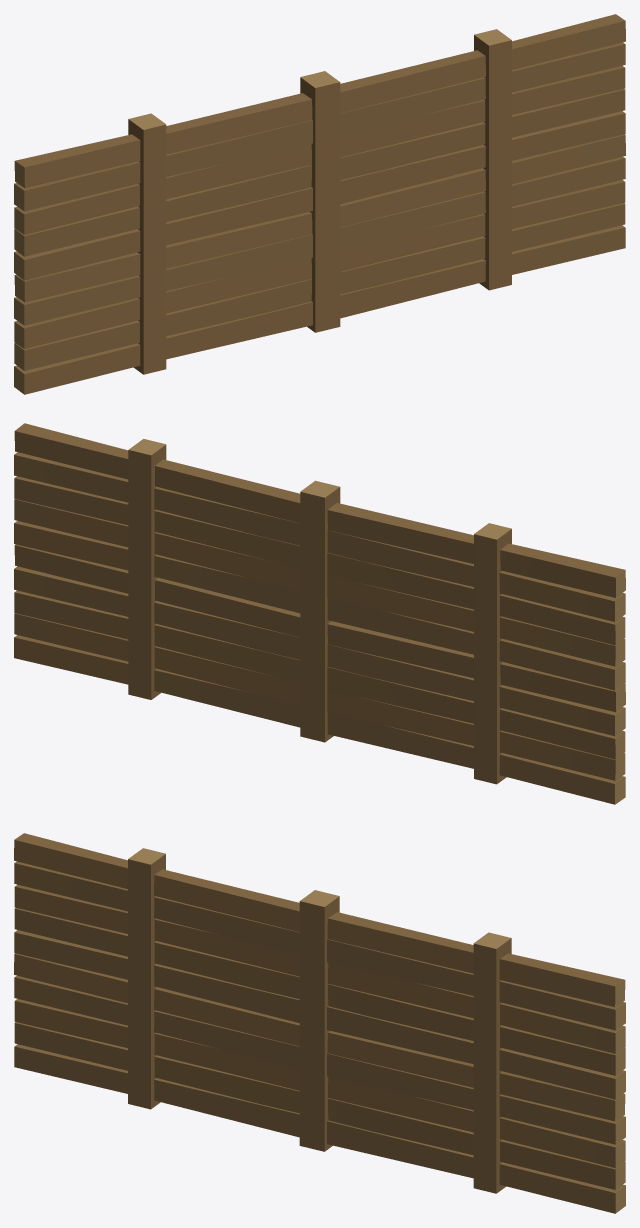
File: kit_wall.fbx
3 renders of one model, top to bottom at view 1: azimuth 30°, elevation 25°; view 2: azimuth 150°, elevation 25°; view 3: azimuth 330°, elevation 25°, orthographic.
Parts seen in each view (by area): view 1: kit_wall; view 2: kit_wall; view 3: kit_wall.
Boxes of the visible parts, left/top/right/bottom form: kit_wall: left=14, top=14, right=625, bottom=394; kit_wall: left=14, top=423, right=625, bottom=804; kit_wall: left=14, top=833, right=625, bottom=1213.
Bounding box in the file's own units: 3 × 1.17 × 0.1308.
Materials: 1 (1 with a texture image).
